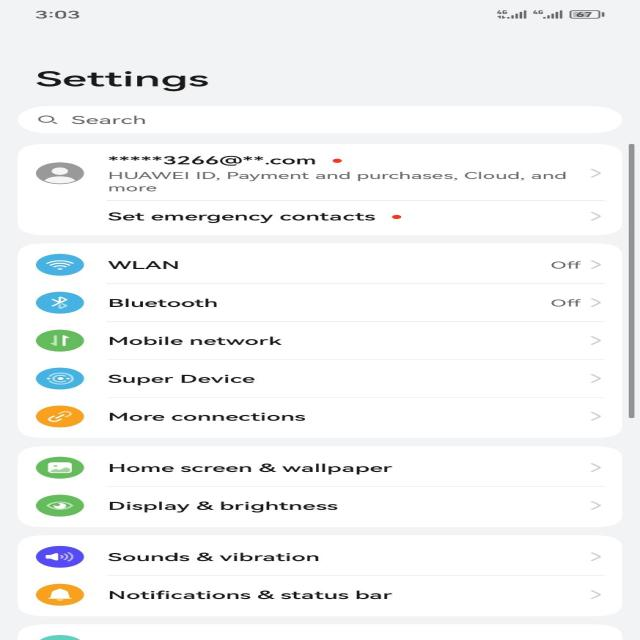Icon: (36, 291, 85, 314), (36, 405, 85, 428), (36, 456, 85, 479), (36, 368, 85, 390), (36, 546, 85, 568), (36, 584, 85, 606), (36, 254, 85, 275), (36, 330, 85, 351), (36, 495, 85, 516)
SearchBar: (20, 104, 628, 137)
